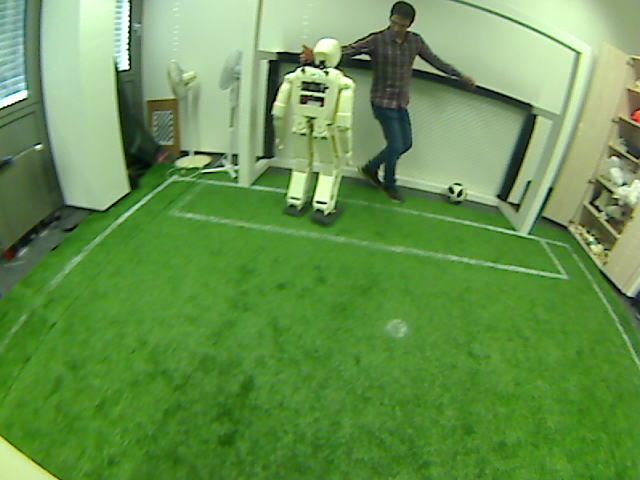ball: (442, 178, 469, 205)
goalpost: (511, 187, 534, 236), (234, 153, 251, 187)
robot: (278, 144, 344, 219)
